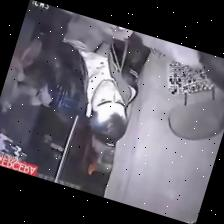person: (44, 14, 150, 143), (198, 51, 223, 89)
